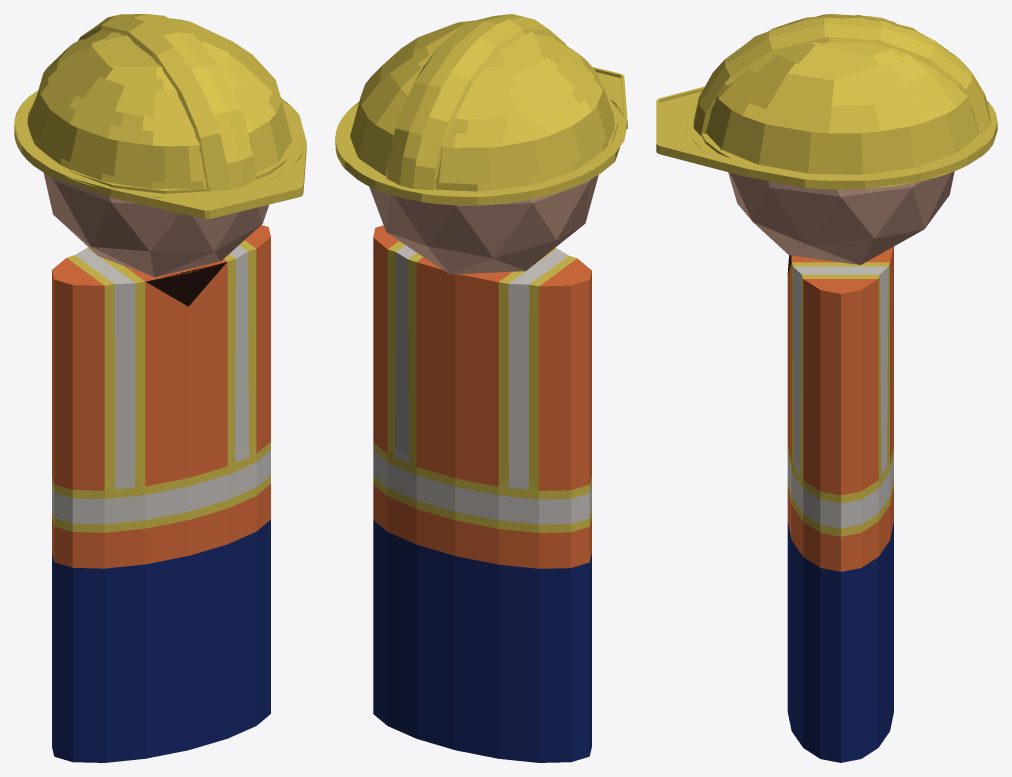
File: Bob.fbx
3 renders of one model, left to right at view 1: azimuth 30°, elevation 25°; view 2: azimuth 150°, elevation 25°; view 3: azimuth 270°, elevation 25°, orthographic.
Parts seen in each view (by area): view 1: Corps, Casque, Tete; view 2: Corps, Casque, Tete; view 3: Corps, Casque, Tete.
Boxes of the visible parts, left/top/right/bottom form: Corps: left=52, top=225, right=270, bottom=762; Casque: left=14, top=14, right=306, bottom=218; Tete: left=43, top=173, right=268, bottom=277; Corps: left=373, top=225, right=591, bottom=762; Casque: left=335, top=14, right=627, bottom=205; Tete: left=369, top=175, right=598, bottom=274; Corps: left=787, top=246, right=893, bottom=762; Casque: left=656, top=14, right=997, bottom=189; Tete: left=728, top=171, right=954, bottom=264.
Size of the model in its own units: 45.97 by 125 by 56.08.
